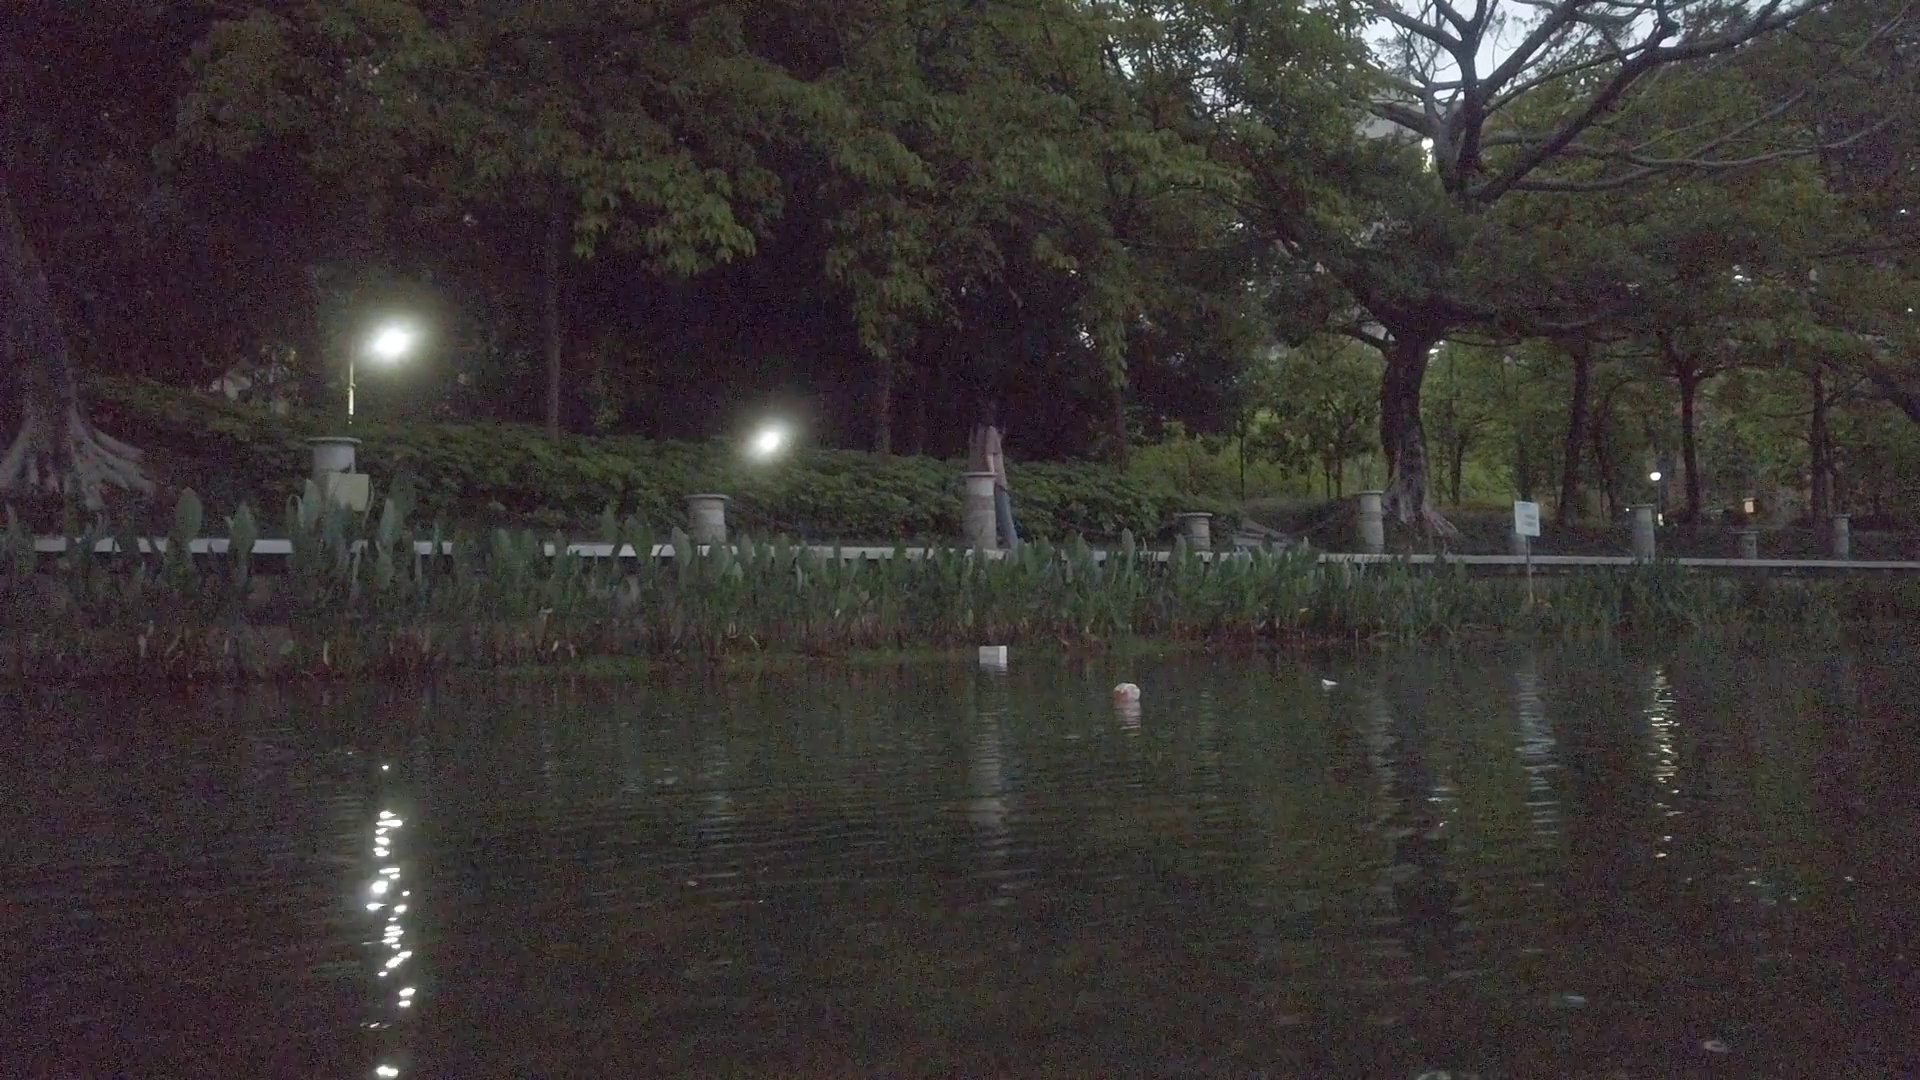bottle: (1112, 680, 1145, 702)
carton: (978, 645, 1009, 663)
